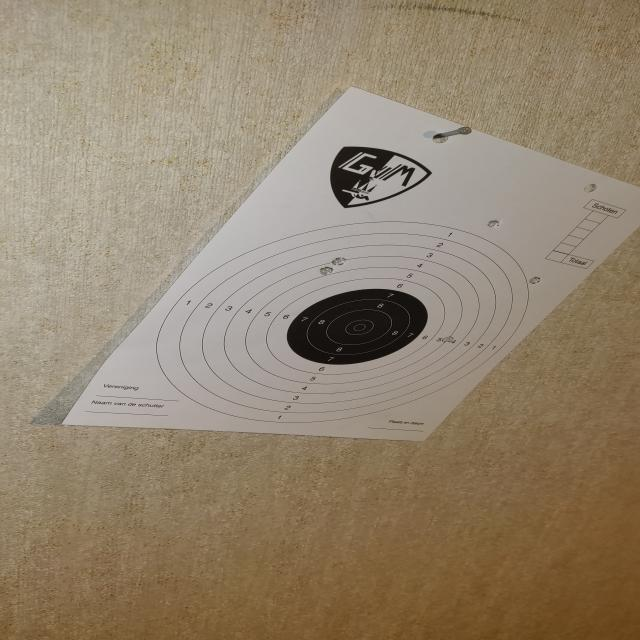0: (442, 336, 456, 344), (487, 220, 500, 228), (530, 276, 541, 284)
4: (331, 258, 346, 265), (320, 267, 332, 275)
Target: (154, 221, 532, 424)
black_contour: (286, 288, 430, 366)
